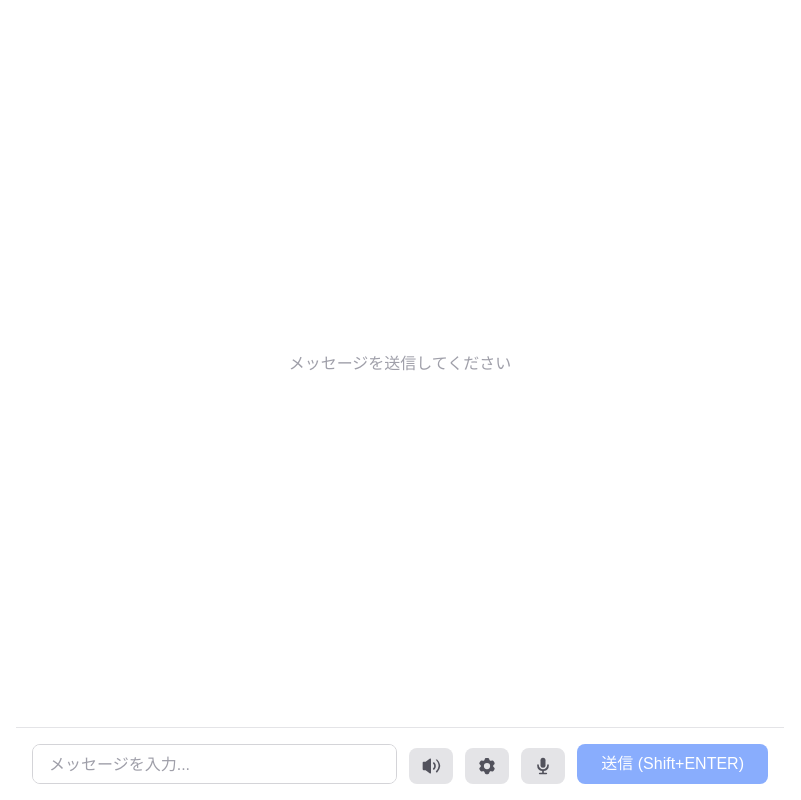
Test: ChatContainer › should show streamed assistant response
Step 1. Type "Hello" into the text box with placeholder "メッセージを入力..." → [215, 764], box [32, 744, 397, 784]
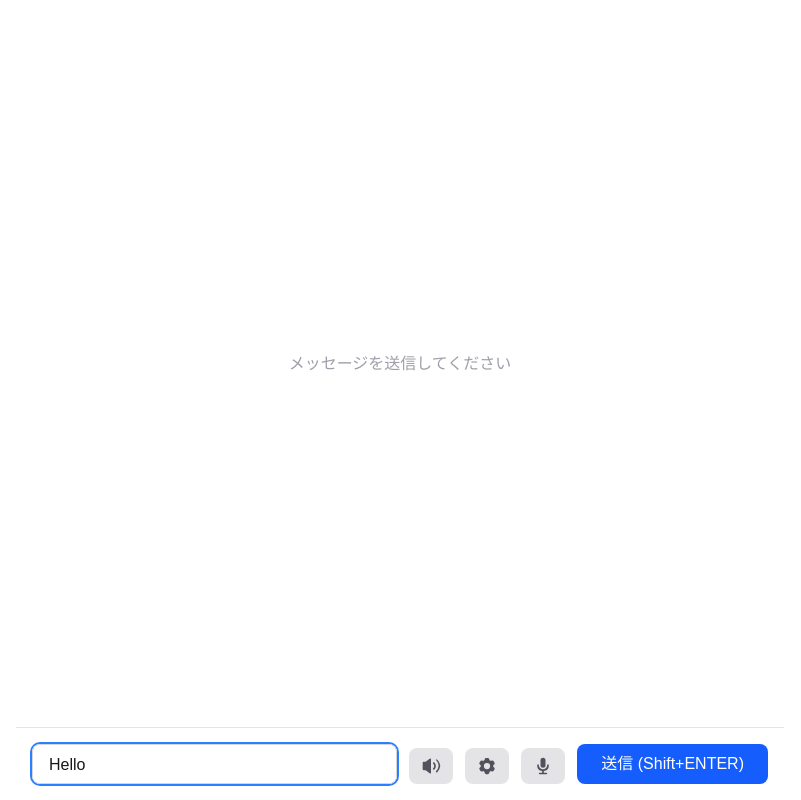
Step 2. Click the button "送信 (Shift+ENTER)" → [673, 764], box [577, 744, 768, 784]
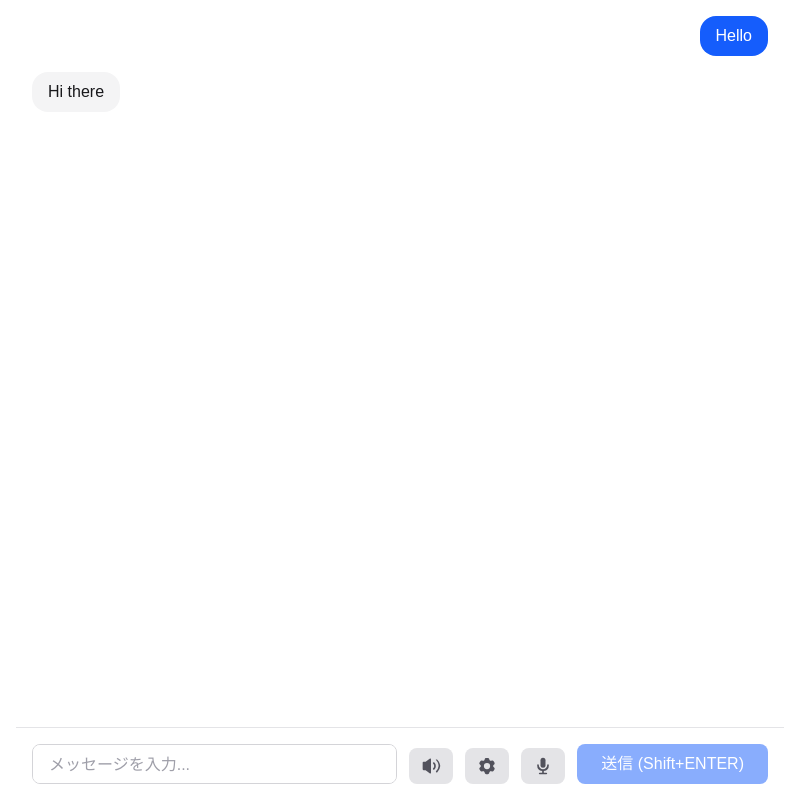
Now the text "Hi there" is shown, box [32, 72, 120, 112]
